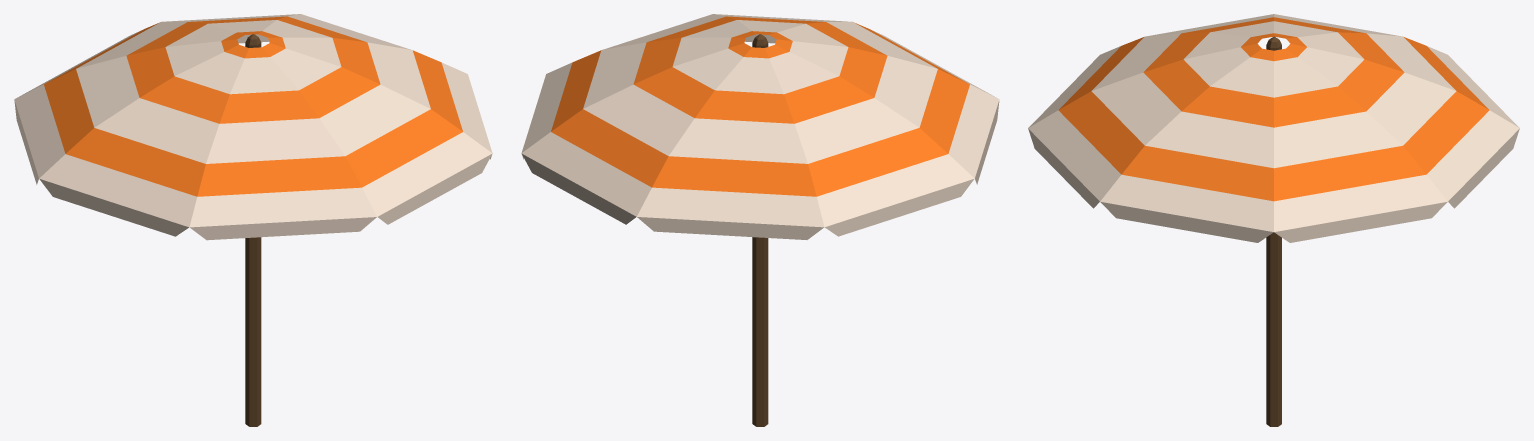
File: beach_sunscreen-big.fbx
3 views of the same model, side by side, from view 1: azimuth 30°, elevation 25°; view 2: azimuth 150°, elevation 25°; view 3: azimuth 270°, elevation 25° (orthographic).
Parts seen in each view (by area): view 1: beach_sunscreen_big; view 2: beach_sunscreen_big; view 3: beach_sunscreen_big.
Part boxes in pixels (left/top/right/bottom): beach_sunscreen_big: left=14, top=14, right=492, bottom=426; beach_sunscreen_big: left=521, top=14, right=999, bottom=426; beach_sunscreen_big: left=1028, top=14, right=1519, bottom=426.
Bounding box in the file's own units: 200 × 174 × 200.
